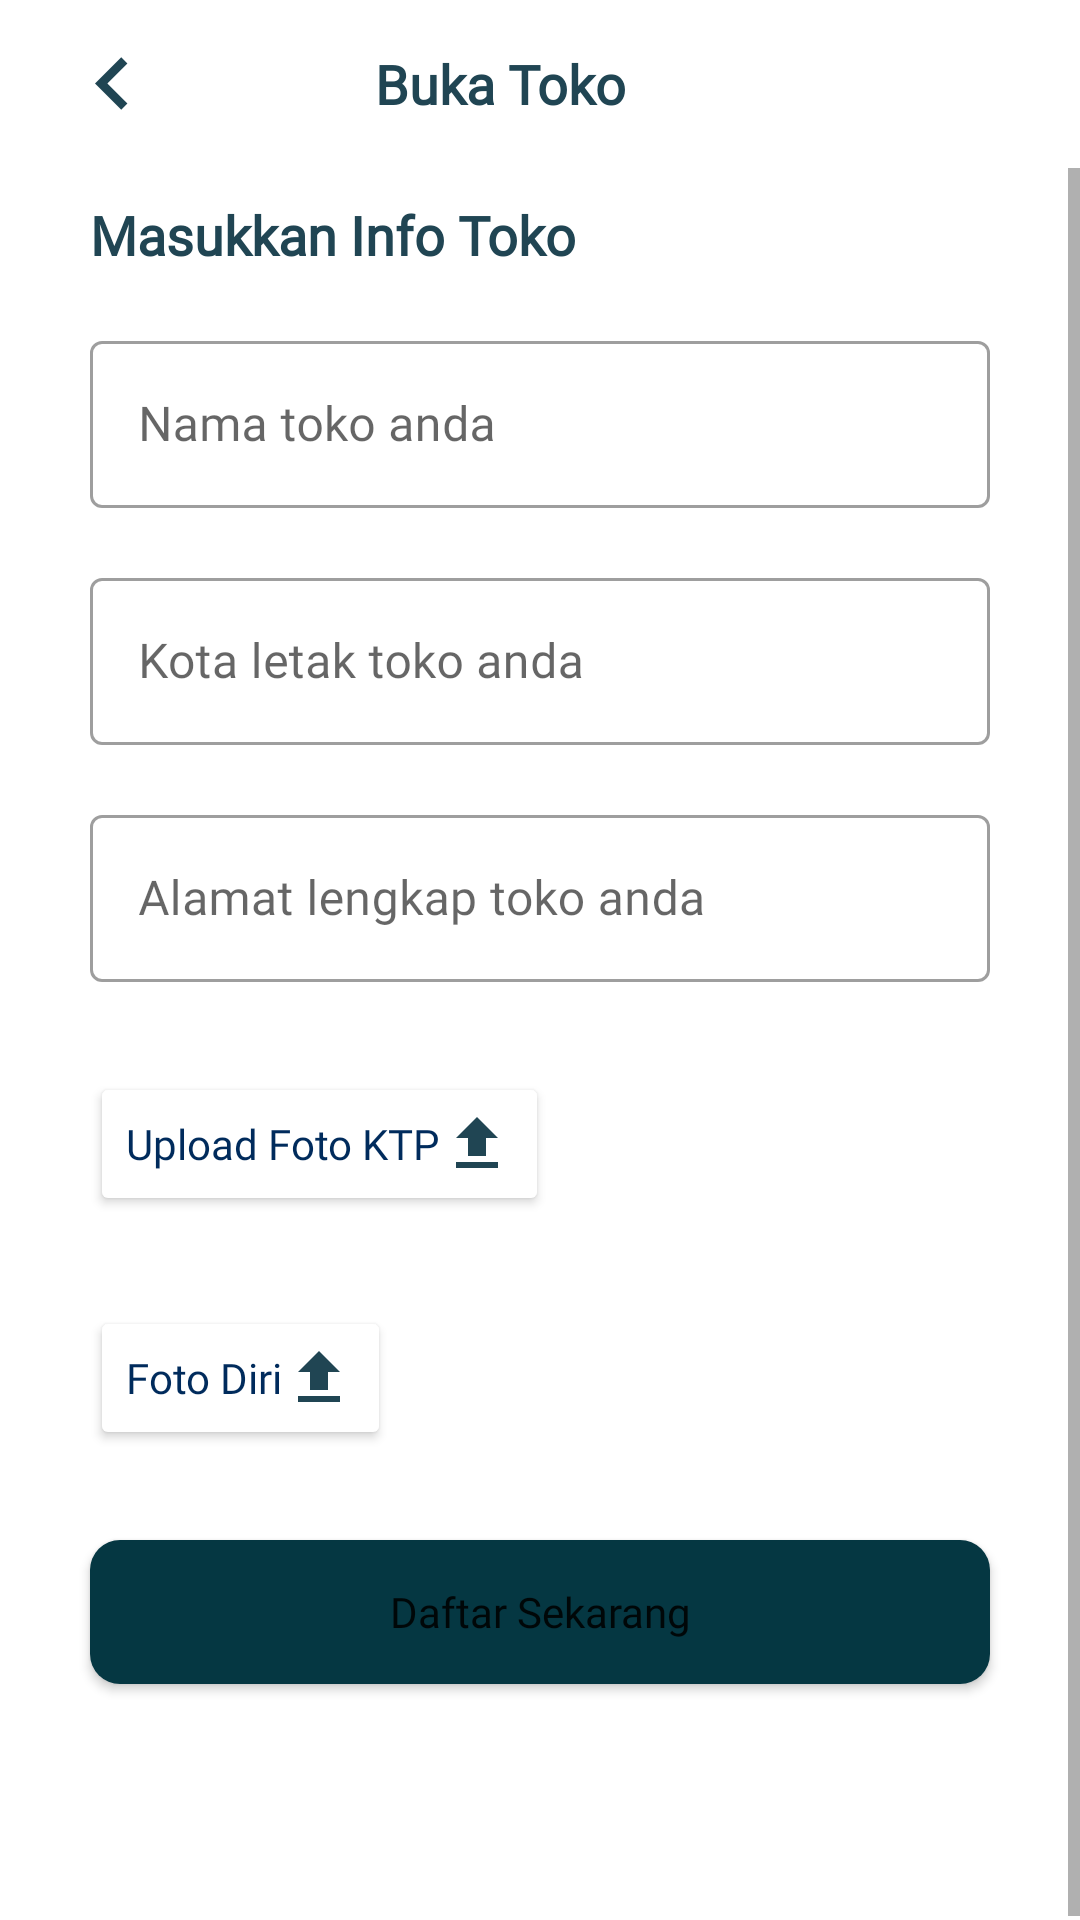

Icons on this 1080×1920 Android screen, each with the point to tap as (x=x, y=y):
keyboard arrow left: (x=111, y=83)
